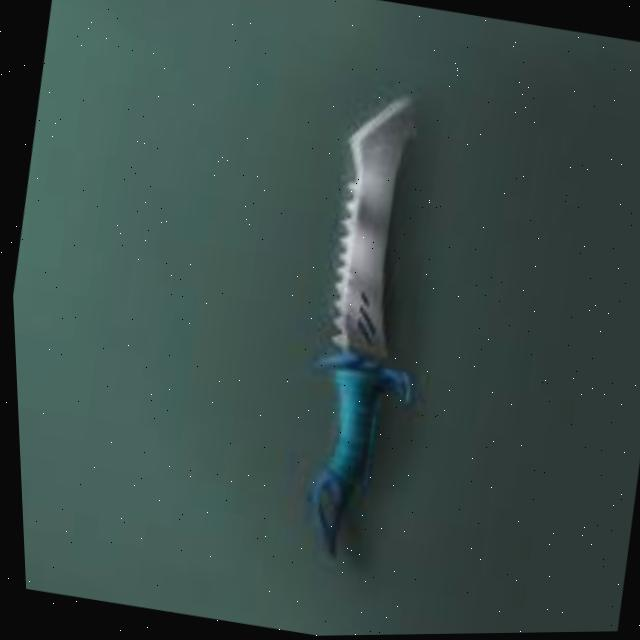knife: (265, 82, 462, 566)
